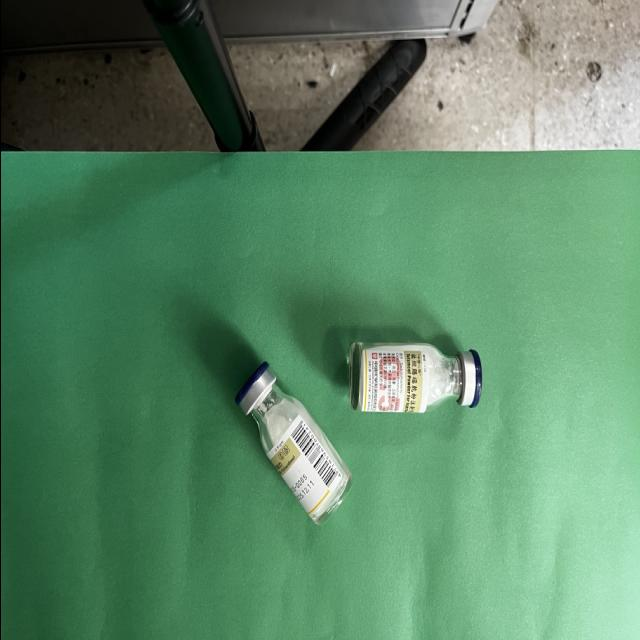Vials: (234, 363, 350, 525), (346, 341, 481, 413)
